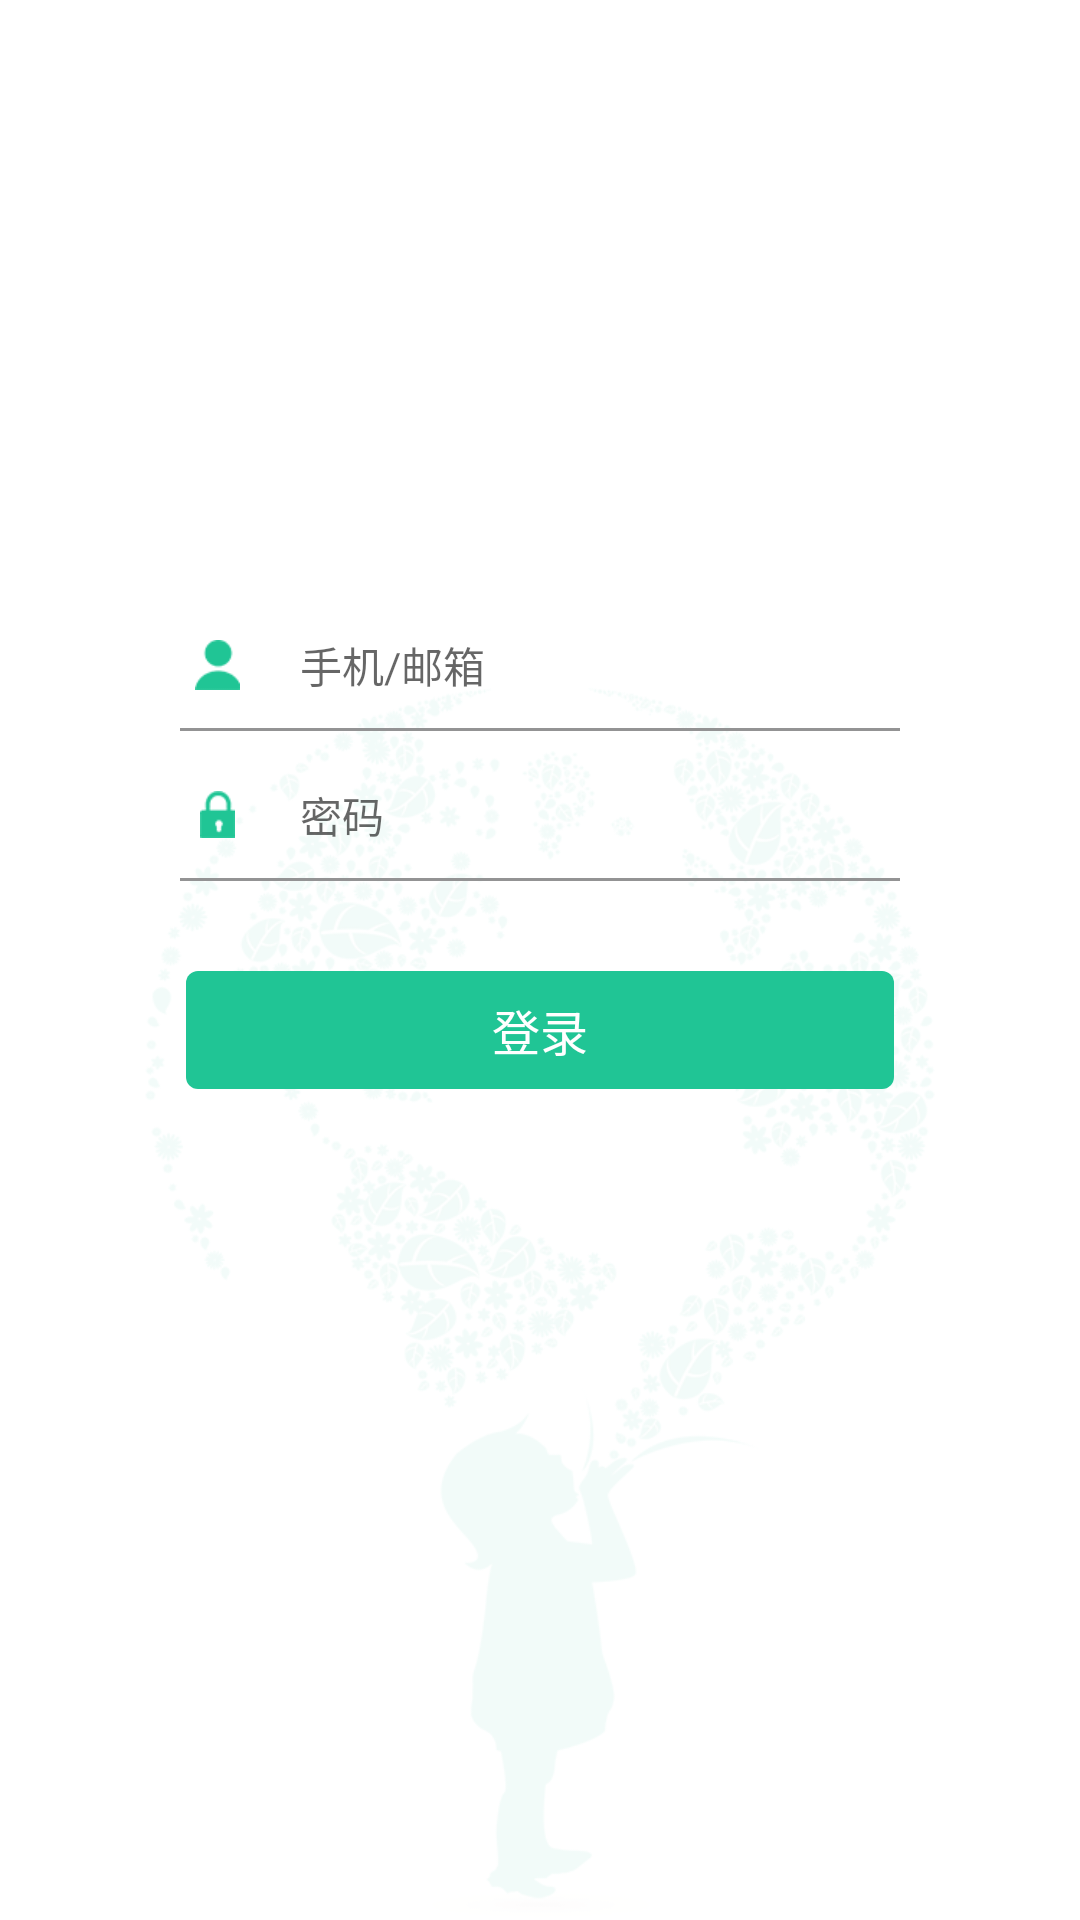

Point at icon controls on the screen. Image size 1080×1920, points as [x,y].
login account: [217,665]
login pwd: [217,814]
